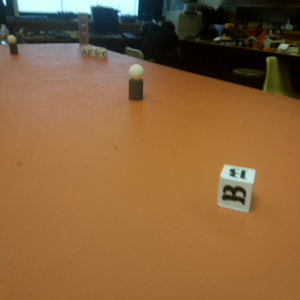blockA: (80, 46, 89, 57)
blockB: (219, 165, 257, 212)
blockC: (97, 48, 108, 59)
corner: (74, 12, 91, 45)
obstacle: (128, 64, 145, 100), (7, 35, 19, 55)
